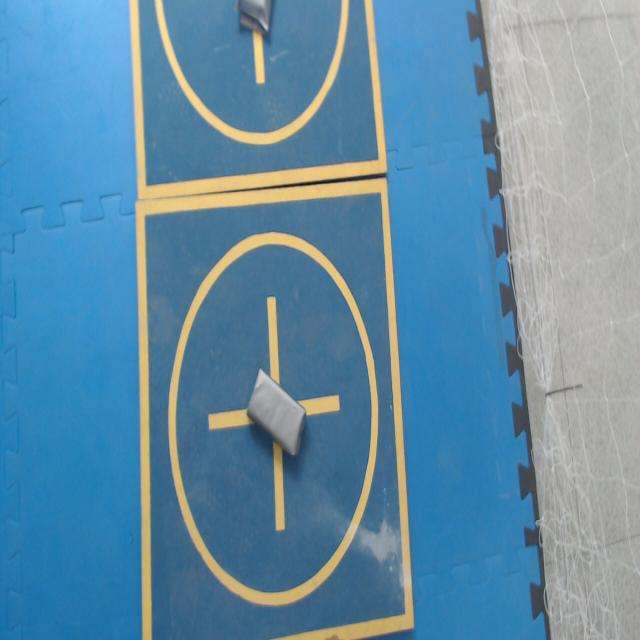lipo: (247, 369, 306, 454), (236, 0, 270, 34)
